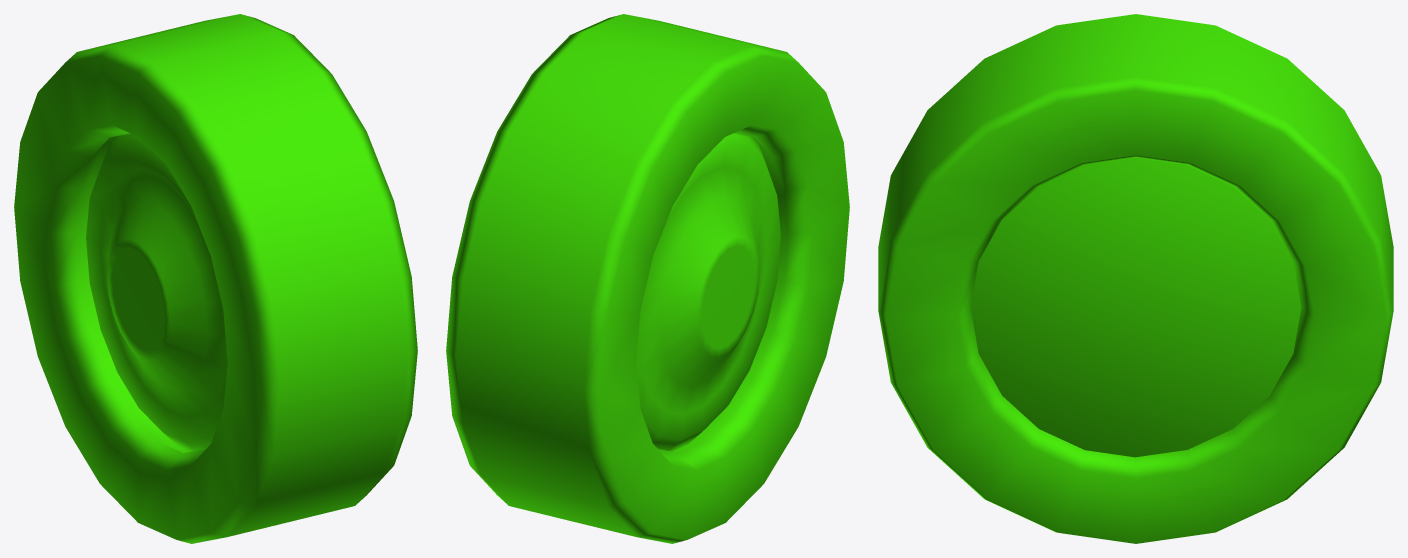
File: Truck_Wheel_01B.fbx
3 views of the same model, side by side, from view 1: azimuth 30°, elevation 25°; view 2: azimuth 150°, elevation 25°; view 3: azimuth 270°, elevation 25° (orthographic).
Parts seen in each view (by area): view 1: Truck_Wheel_01B; view 2: Truck_Wheel_01B; view 3: Truck_Wheel_01B.
Part boxes in pixels (x1=…): Truck_Wheel_01B: x1=14, y1=14, x2=417, y2=543; Truck_Wheel_01B: x1=446, y1=14, x2=849, y2=543; Truck_Wheel_01B: x1=878, y1=14, x2=1393, y2=543.
Size of the model in its own units: 42.37 by 120 by 120.
